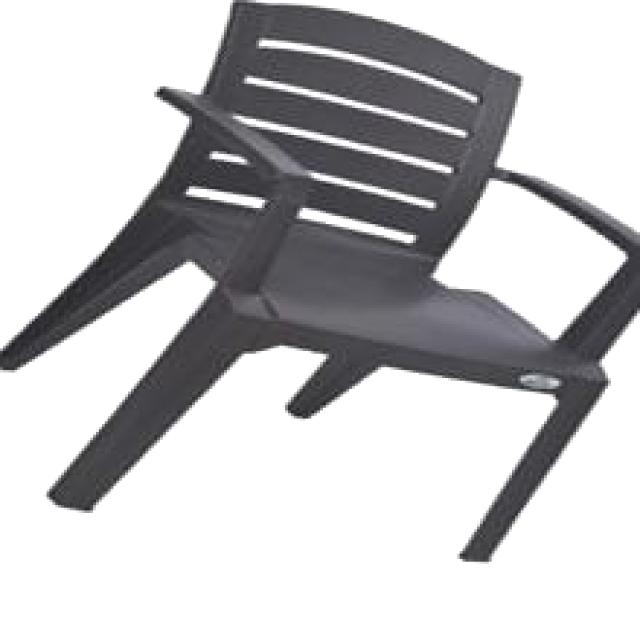Chair: (4, 4, 640, 574)
